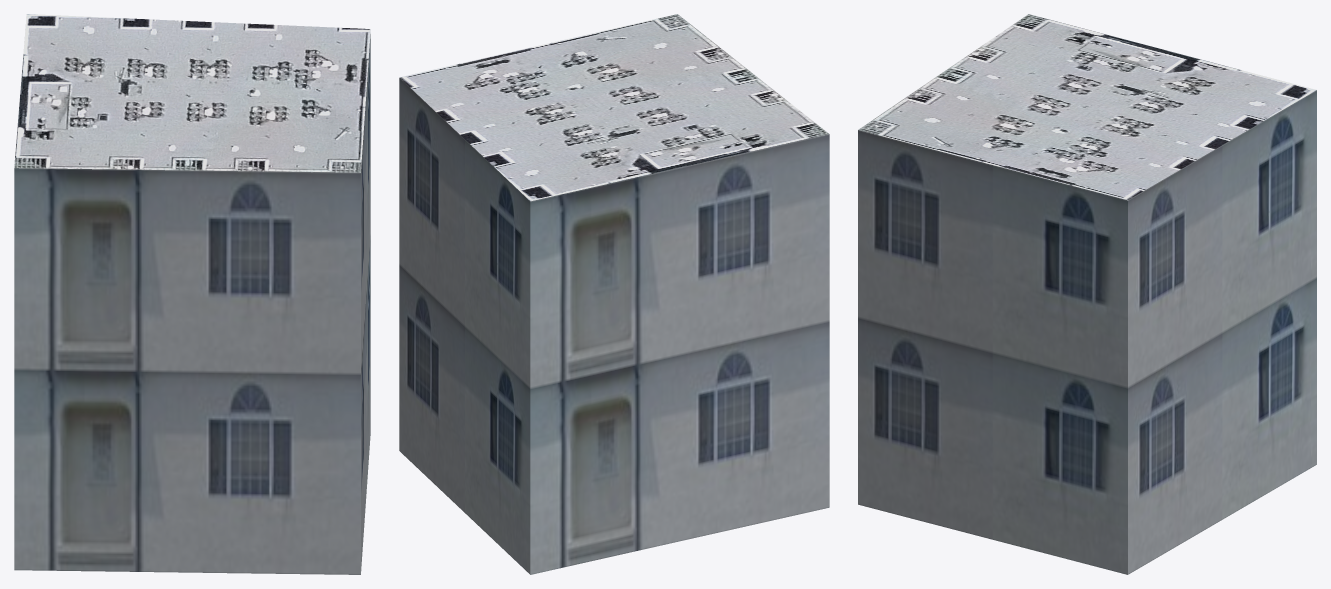
File: ResTex__2994.fbx
3 renders of one model, left to right at view 1: azimuth 30°, elevation 25°; view 2: azimuth 150°, elevation 25°; view 3: azimuth 270°, elevation 25°, orthographic. The views are drawn at different scales.
Visible parts, largest first — view 1: CityEngineMaterial_17_m, CityEngineMaterial_8_m; view 2: CityEngineMaterial_17_m, CityEngineMaterial_8_m; view 3: CityEngineMaterial_17_m, CityEngineMaterial_8_m.
Part boxes in pixels (bbox=[...]): CityEngineMaterial_17_m: bbox=[14, 34, 370, 574]; CityEngineMaterial_8_m: bbox=[14, 14, 370, 172]; CityEngineMaterial_17_m: bbox=[399, 78, 829, 574]; CityEngineMaterial_8_m: bbox=[399, 14, 828, 201]; CityEngineMaterial_17_m: bbox=[858, 90, 1316, 574]; CityEngineMaterial_8_m: bbox=[858, 14, 1316, 200].
Bounding box in the file's own units: 6.4 × 6 × 6.66.
Materials: 2 (2 with a texture image).
